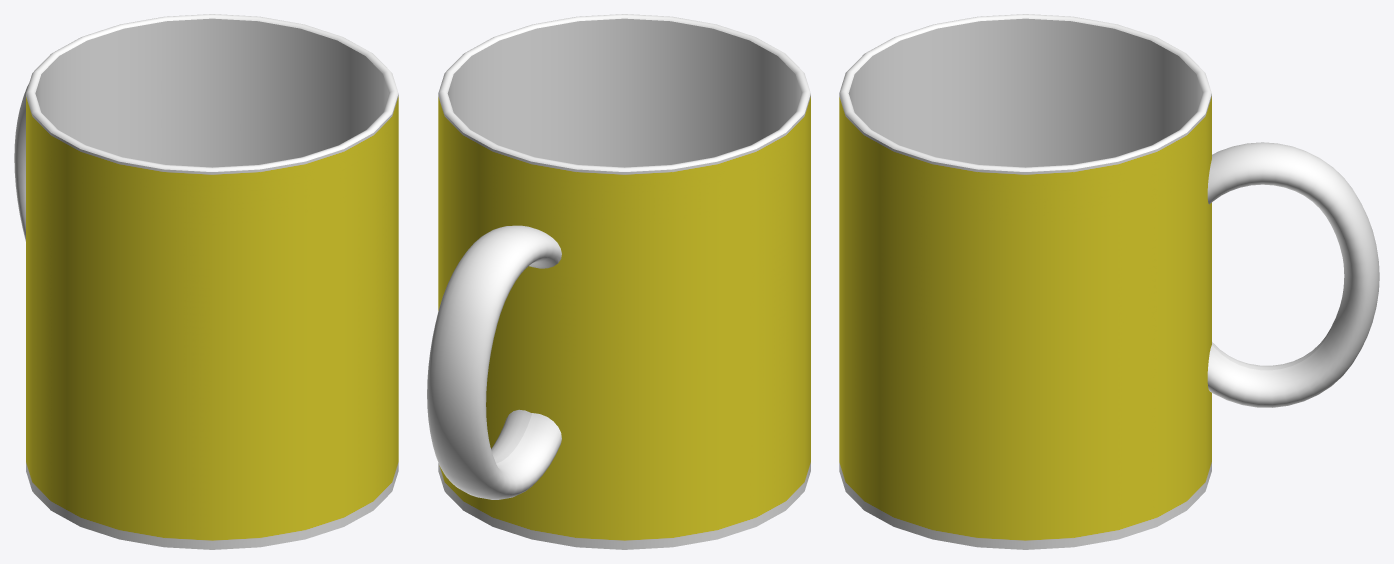
The picture shows the model from 3 angles, left to right: view 1: azimuth 30°, elevation 25°; view 2: azimuth 150°, elevation 25°; view 3: azimuth 270°, elevation 25°; orthographic projection.
Visible parts, largest first — view 1: mesh1_mesh1-geometry_1, mesh1_mesh1-geometry, mesh2_mesh2-geometry; view 2: mesh1_mesh1-geometry_1, mesh1_mesh1-geometry, mesh2_mesh2-geometry; view 3: mesh1_mesh1-geometry_1, mesh1_mesh1-geometry, mesh2_mesh2-geometry.
Boxes of the visible parts, bbox=[...] form: mesh1_mesh1-geometry_1: bbox=[26, 94, 398, 549]; mesh1_mesh1-geometry: bbox=[26, 14, 398, 171]; mesh2_mesh2-geometry: bbox=[14, 84, 28, 241]; mesh1_mesh1-geometry_1: bbox=[438, 94, 810, 549]; mesh1_mesh1-geometry: bbox=[438, 14, 810, 171]; mesh2_mesh2-geometry: bbox=[427, 225, 561, 499]; mesh1_mesh1-geometry_1: bbox=[839, 94, 1211, 549]; mesh1_mesh1-geometry: bbox=[839, 14, 1211, 171]; mesh2_mesh2-geometry: bbox=[1207, 142, 1379, 407].
Bounding box in the file's own units: 0.4784 × 0.5382 × 0.6938.
3 materials, 1 textured.
